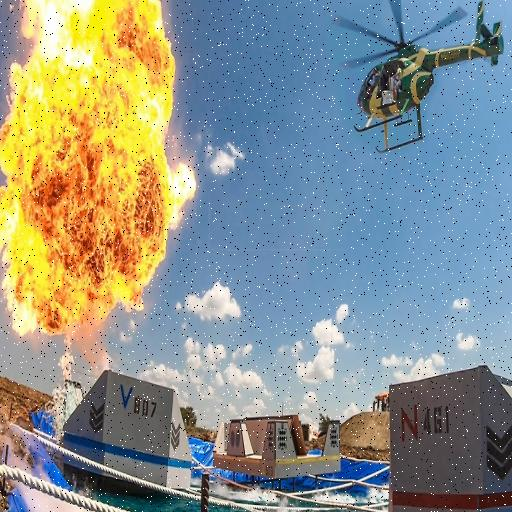helicopter: (337, 1, 512, 167)
